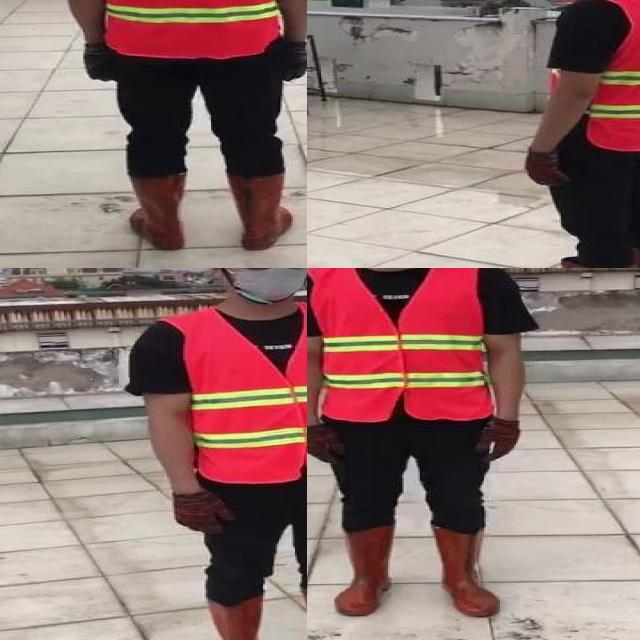boots: (431, 524, 502, 618), (331, 526, 395, 616), (227, 172, 295, 251), (126, 172, 188, 251), (206, 594, 268, 640)
face_mask: (222, 268, 307, 303)
glasses: (226, 268, 307, 274)
hand_glove: (171, 491, 238, 536), (475, 421, 521, 464), (524, 151, 568, 187), (307, 423, 347, 462), (86, 42, 118, 82), (280, 42, 307, 83)
person: (307, 268, 538, 617), (121, 268, 307, 640), (52, 0, 307, 255), (513, 0, 640, 268)
vest: (307, 268, 489, 420), (184, 308, 307, 480), (548, 0, 640, 152), (81, 0, 289, 56)
